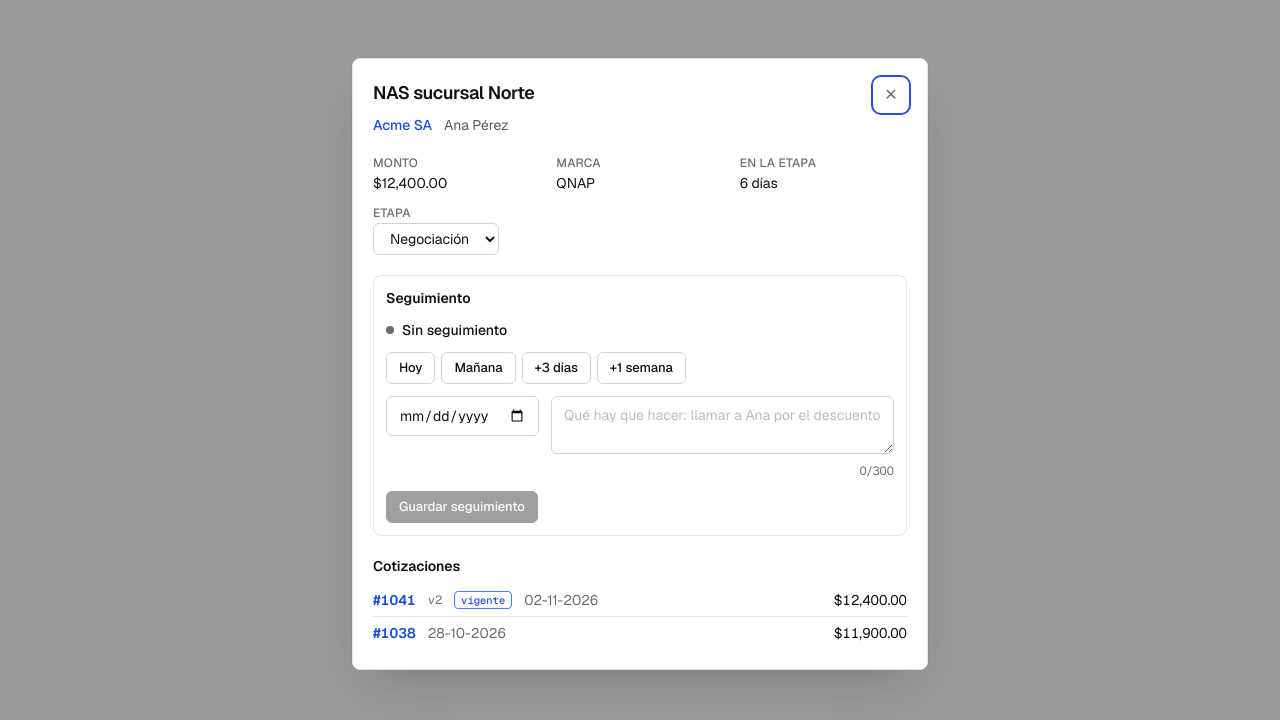
it: OportunidadPanel › seguimiento › el atajo "Hoy" pone 2026-11-19 en el campo sin guardar
This screenshot has width=1280, height=720.
Expected: the dialog "NAS sucursal Norte" is shown, top-left (352, 58), bottom-right (928, 670)
Expected: the heading "Seguimiento" is shown, top-left (386, 289), bottom-right (471, 307)
What coordinates should you click on to do the following:
click the button "Hoy"
I would click on:
 (411, 368)
Its box is top-left (386, 352), bottom-right (436, 384).
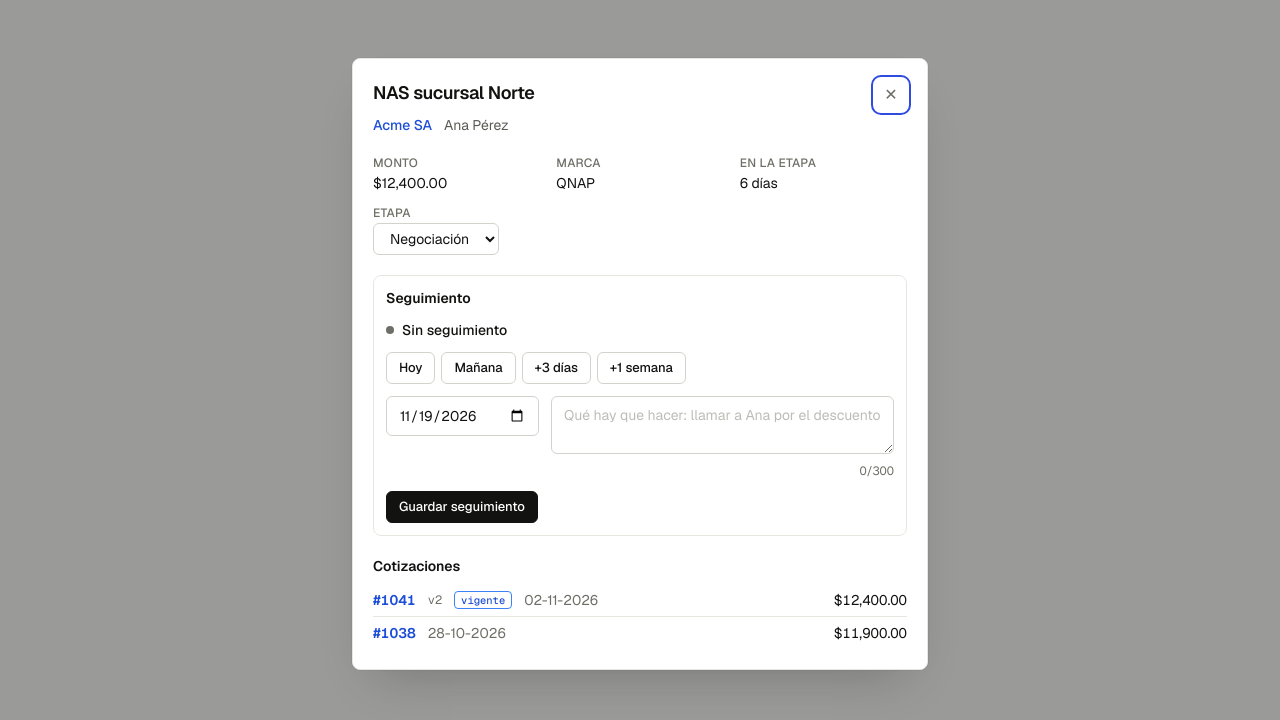
Result: the date field named "Fecha del próximo seguimiento" holds "2026-11-19" at top-left (386, 396), bottom-right (539, 436)
Result: the button "Guardar seguimiento" is enabled at top-left (386, 491), bottom-right (538, 523)
